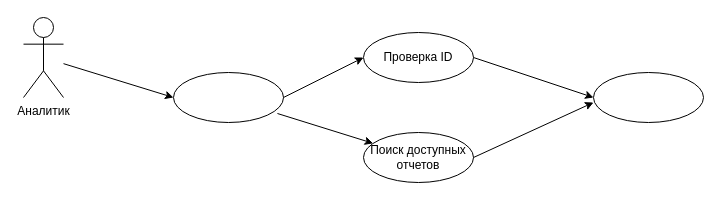
Image size: 721x200. Some labels were removed from this diagram. The box of each missing label's shape, as (x1, y1, x2, y2) in pixels:
Запрос доступных отчетов: (172, 72, 284, 122)
Предоставление отчетов: (592, 72, 704, 122)
